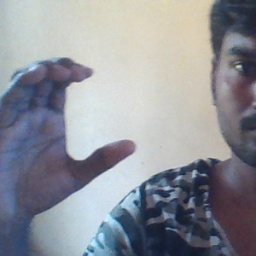C: (16, 48, 142, 184)
